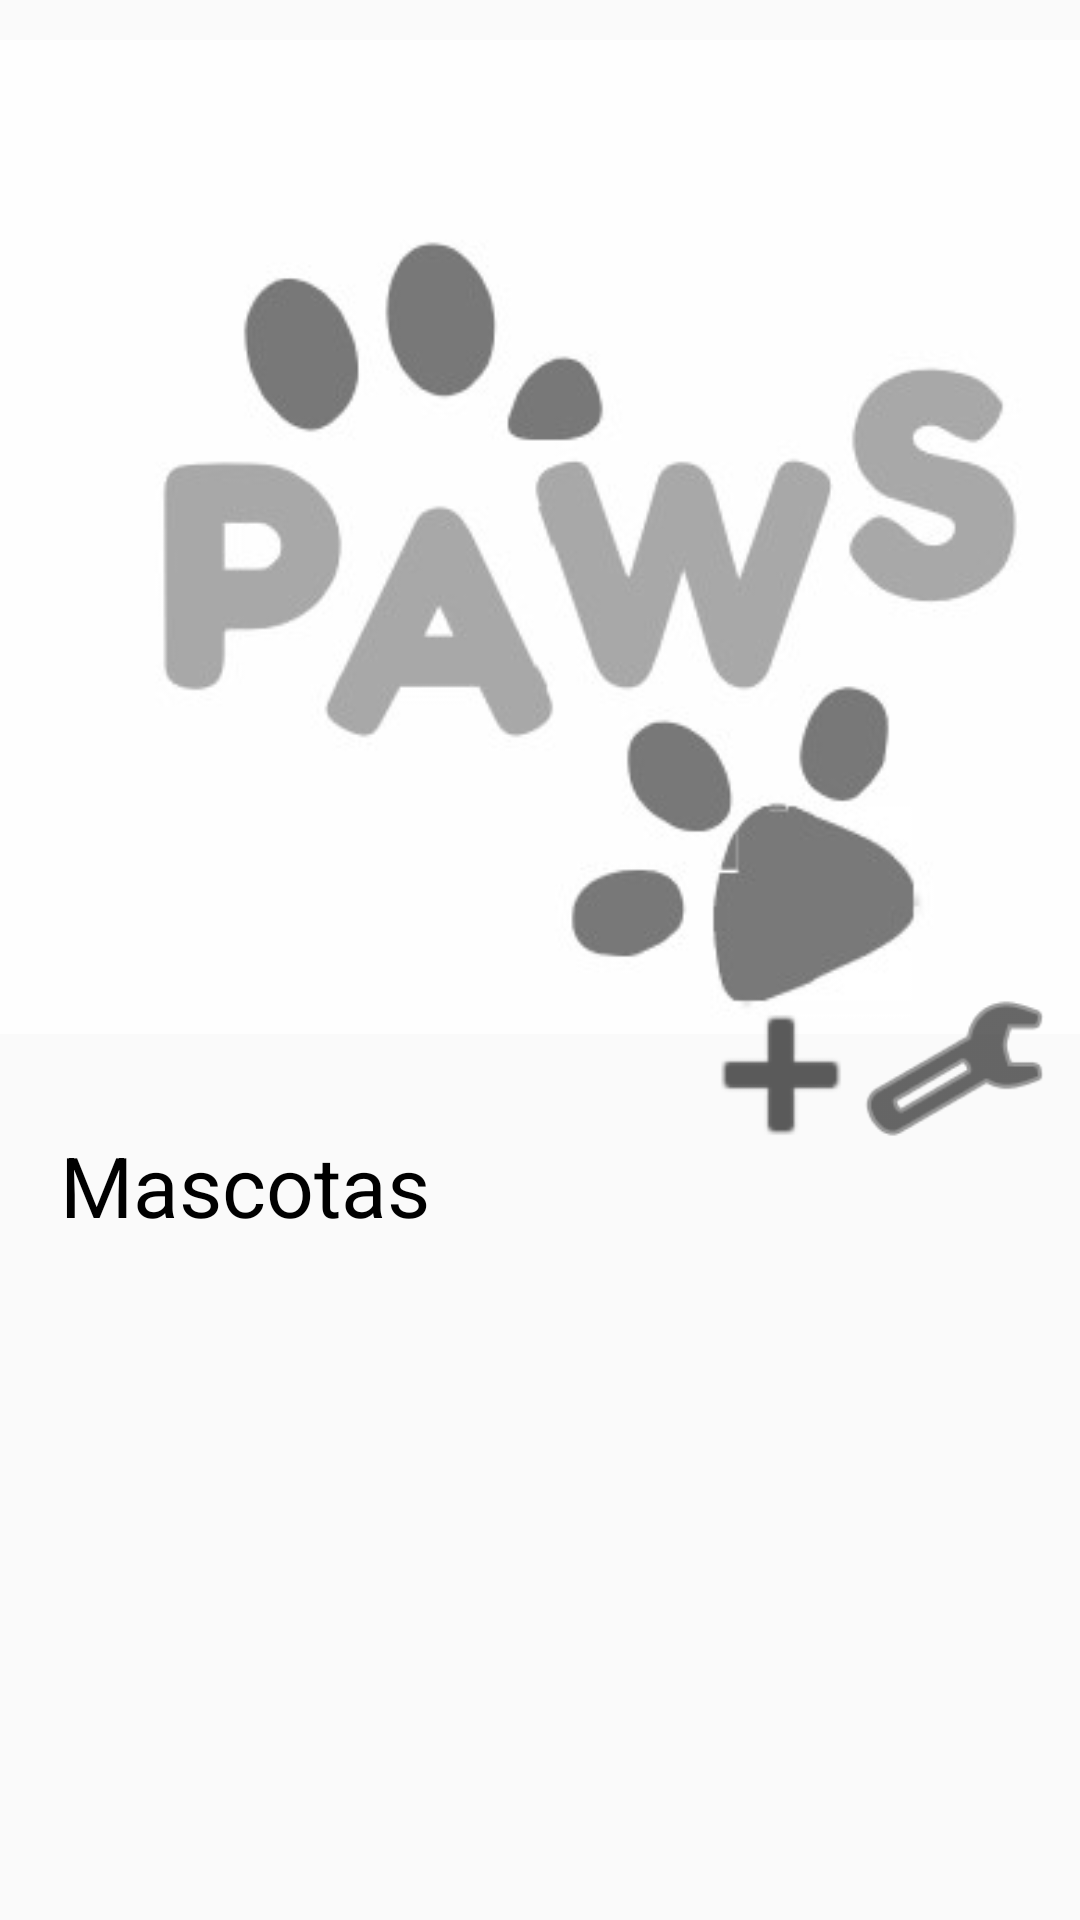

Point at icon controls on the screen. Image size 1080px×1920px, points as [x,y].
add: [781,1075]
manage: [954,1068]
